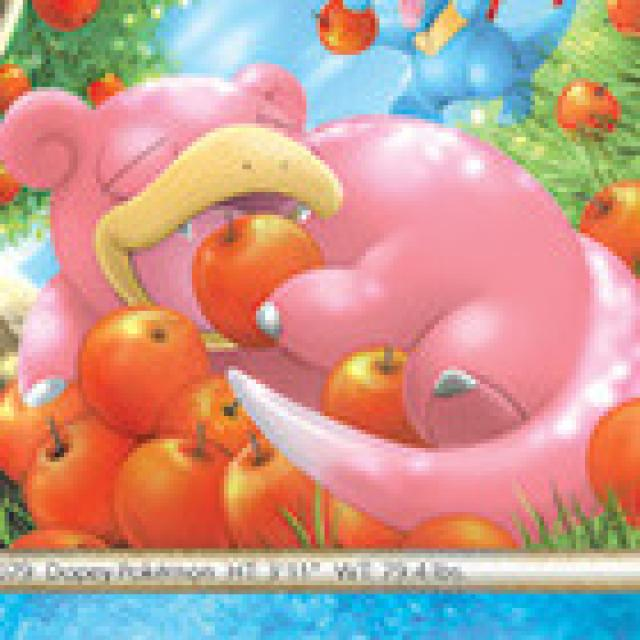Slowpoke: (69, 80, 592, 445)
